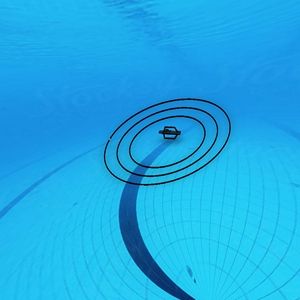circle: (104, 97, 232, 184)
submarine: (158, 125, 182, 140)
